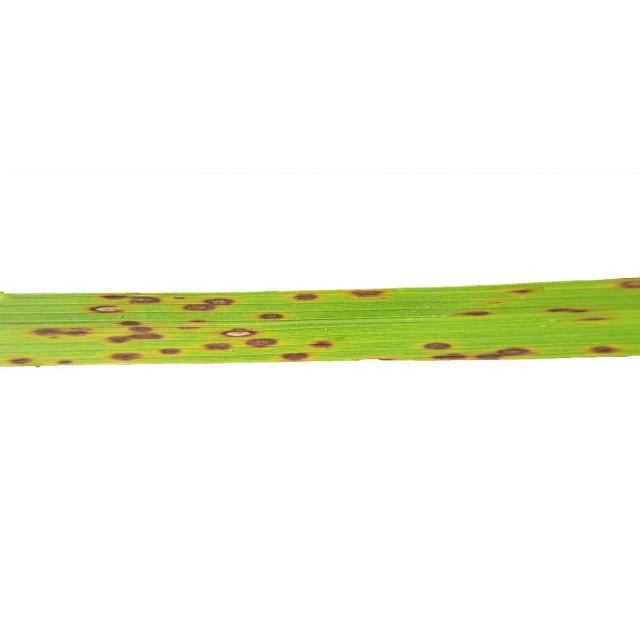Brown spot: (411, 332, 544, 358), (23, 319, 98, 342), (109, 317, 164, 347), (542, 306, 620, 326), (343, 289, 392, 306), (184, 296, 236, 312), (103, 349, 149, 366), (453, 308, 497, 324), (178, 317, 208, 336), (220, 325, 260, 339), (305, 334, 342, 349), (245, 337, 281, 352), (576, 344, 628, 354), (506, 284, 536, 301), (276, 351, 315, 364), (129, 294, 161, 309), (0, 354, 39, 366), (88, 303, 124, 316), (46, 353, 80, 366), (159, 344, 183, 362), (613, 277, 640, 293), (257, 311, 291, 323), (202, 341, 238, 352), (292, 292, 323, 304), (95, 292, 136, 300), (173, 293, 186, 303)
